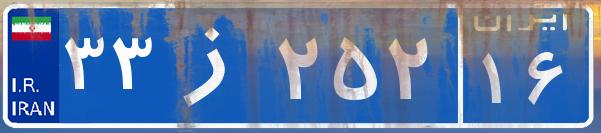1: (475, 38, 525, 113)
2: (385, 28, 445, 110), (273, 28, 330, 110)
3: (57, 26, 110, 107), (110, 28, 158, 105)
5: (330, 28, 385, 110)
6: (525, 38, 570, 115)
ز: (158, 15, 273, 115)
